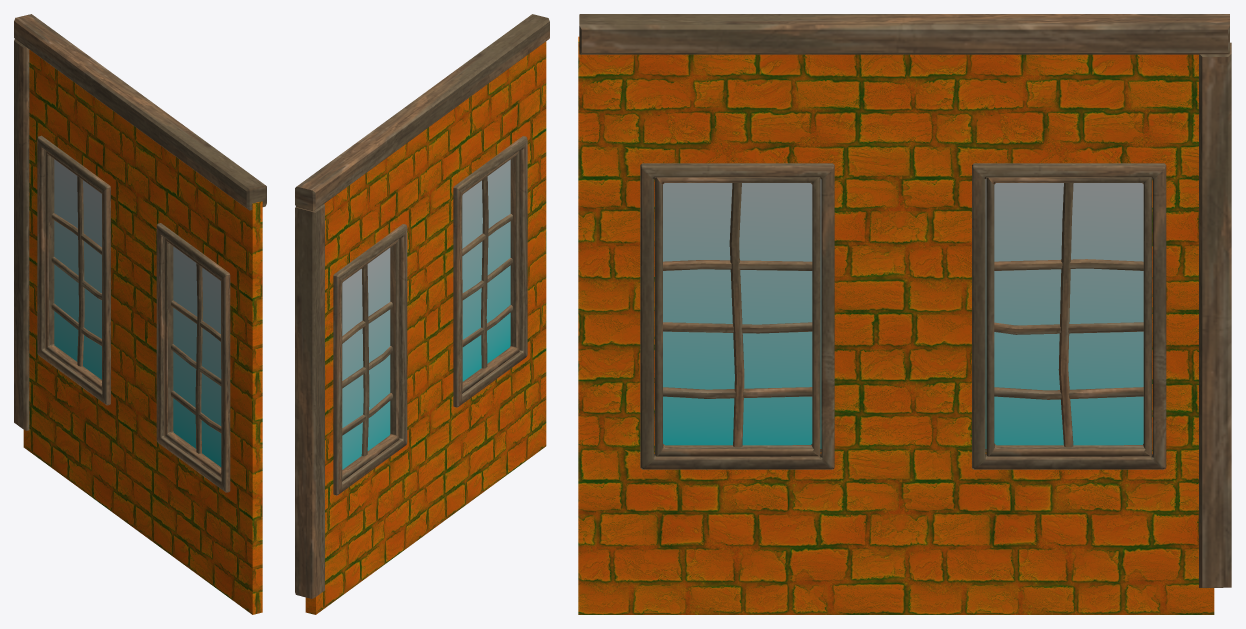
The model's file is SM_wall_05.fbx.
3 renders of one model, left to right at view 1: azimuth 30°, elevation 25°; view 2: azimuth 150°, elevation 25°; view 3: azimuth 270°, elevation 25°, orthographic. The views are drawn at different scales.
Visible parts, largest first — view 1: SM_wall_05_LOD0; view 2: SM_wall_05_LOD0; view 3: SM_wall_05_LOD0.
Boxes of the visible parts, x1,y1,x2,y2 form: SM_wall_05_LOD0: (14, 14, 266, 614); SM_wall_05_LOD0: (295, 14, 549, 614); SM_wall_05_LOD0: (578, 14, 1231, 614).
Bounding box in the file's own units: 20 × 400 × 400.
